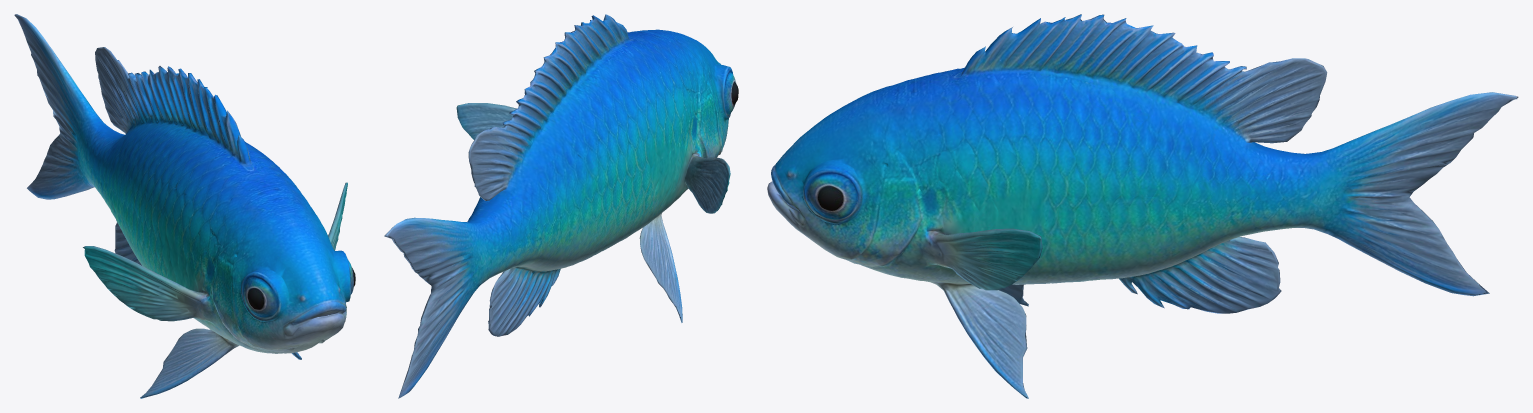
Rendered from Chromis.obj.
The picture shows the model from 3 angles, left to right: view 1: azimuth 30°, elevation 25°; view 2: azimuth 150°, elevation 25°; view 3: azimuth 270°, elevation 25°; orthographic projection. The views are drawn at different scales.
Bounding box in the file's own units: 0.484 × 0.4967 × 1.
1 material, 1 textured.
